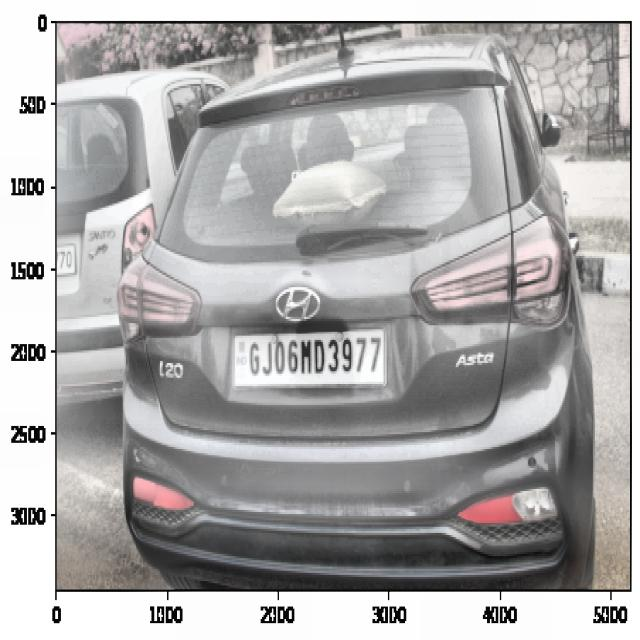license_plate: (243, 333, 388, 388)
